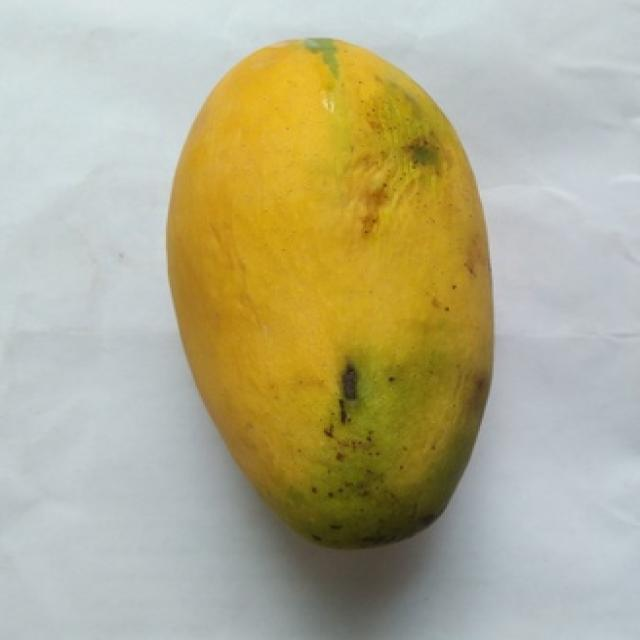Mango: (168, 40, 492, 546)
